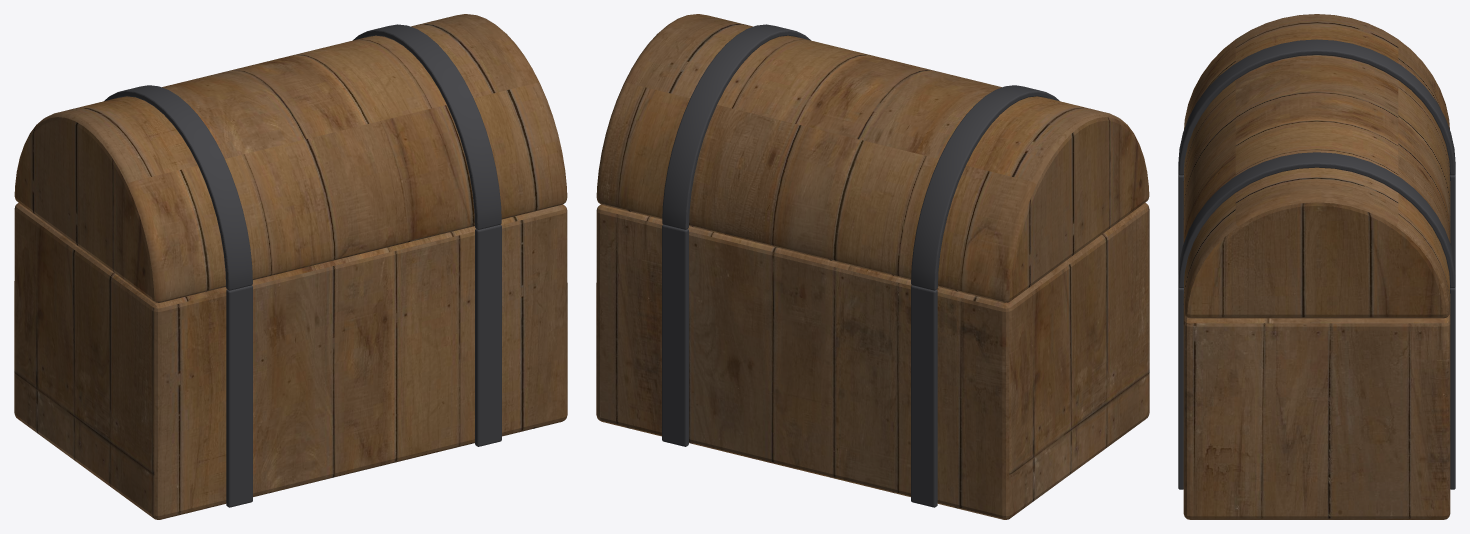
File: chest.glb
3 renders of one model, left to right at view 1: azimuth 30°, elevation 25°; view 2: azimuth 150°, elevation 25°; view 3: azimuth 270°, elevation 25°, orthographic. The views are drawn at different scales.
Visible parts, largest first — view 1: Chest_Body, Chest_Lid, Chest_Lid_Band, Chest_Band; view 2: Chest_Body, Chest_Lid, Chest_Lid_Band, Chest_Band; view 3: Chest_Lid, Chest_Body, Chest_Lid_Band, Chest_Band.
Part boxes in pixels (left/top/right/bottom): Chest_Body: left=14, top=203, right=567, bottom=519; Chest_Lid: left=14, top=14, right=567, bottom=302; Chest_Lid_Band: left=104, top=24, right=501, bottom=290; Chest_Band: left=226, top=224, right=501, bottom=507; Chest_Body: left=596, top=203, right=1149, bottom=519; Chest_Lid: left=596, top=14, right=1149, bottom=302; Chest_Lid_Band: left=662, top=24, right=1059, bottom=290; Chest_Band: left=662, top=224, right=937, bottom=507; Chest_Lid: left=1184, top=14, right=1449, bottom=318; Chest_Body: left=1183, top=181, right=1450, bottom=519; Chest_Lid_Band: left=1178, top=39, right=1455, bottom=287; Chest_Band: left=1178, top=174, right=1455, bottom=489.
Bounding box in the file's own units: 1 × 0.812 × 0.624.
Materials: 2 (1 with a texture image).
